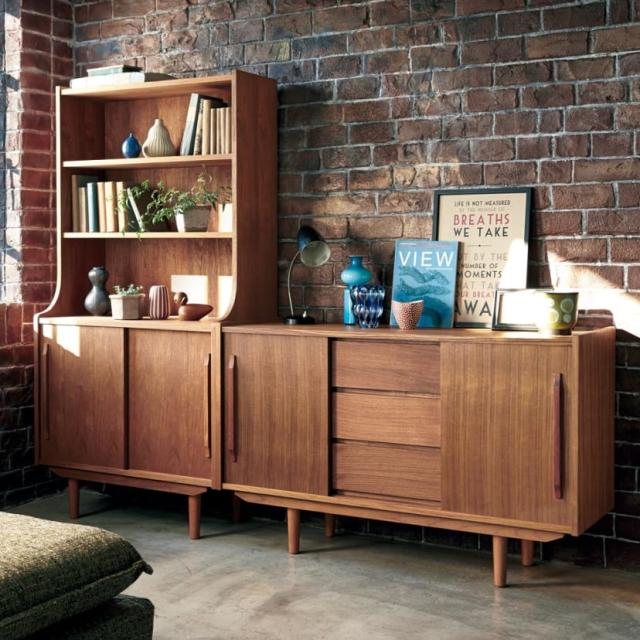vintage shelf: (20, 57, 286, 543), (219, 317, 630, 589)
